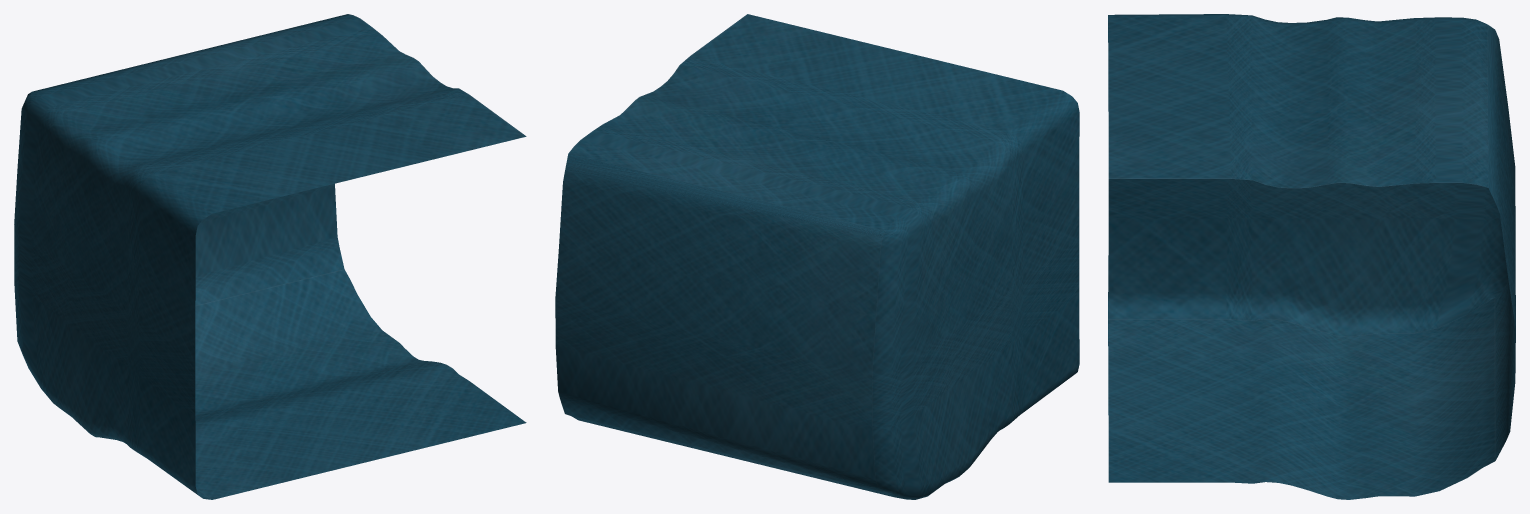
File: tl_flyL.FBX
The picture shows the model from 3 angles, left to right: view 1: azimuth 30°, elevation 25°; view 2: azimuth 150°, elevation 25°; view 3: azimuth 270°, elevation 25°; orthographic projection. The views are drawn at different scales.
Visible parts, largest first — view 1: tl_flyL_FINAL; view 2: tl_flyL_FINAL; view 3: tl_flyL_FINAL.
Boxes of the visible parts, x1,y1,x2,y2 form: tl_flyL_FINAL: (14,14,526,499); tl_flyL_FINAL: (555,14,1079,499); tl_flyL_FINAL: (1108,14,1515,499).
Size of the model in its own units: 100 by 87.33 by 101.
